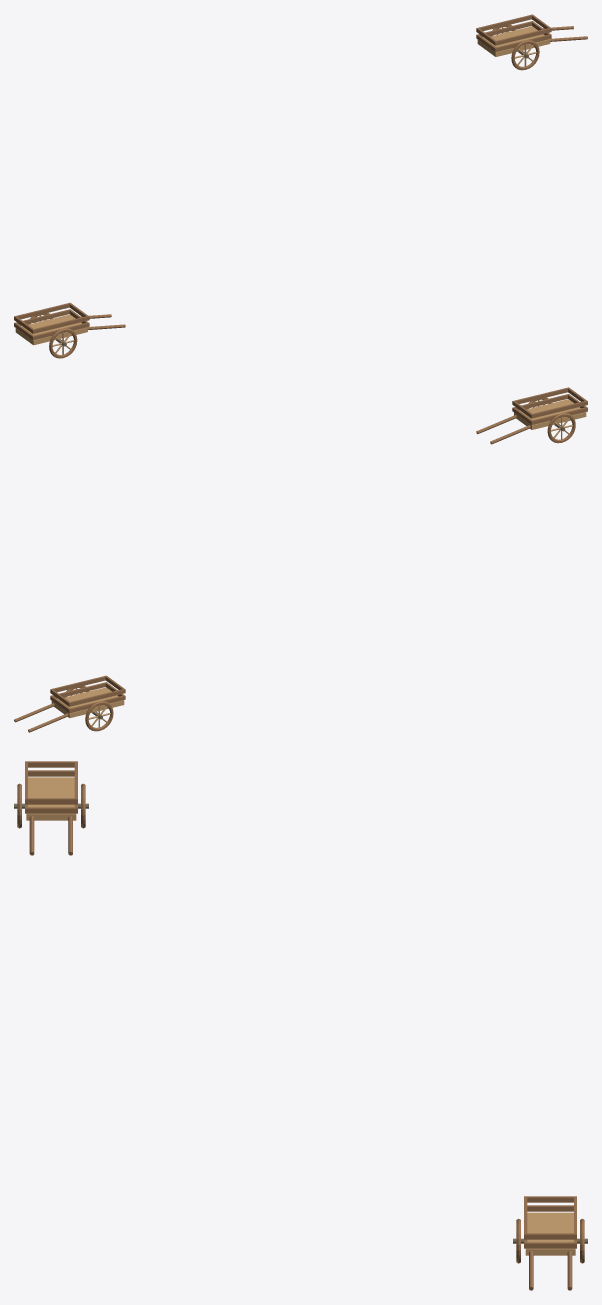
Rendered from SM_WoodenTradingCarts.fbx.
3 views of the same model, one above another, from view 1: azimuth 30°, elevation 25°; view 2: azimuth 210°, elevation 25°; view 3: azimuth 270°, elevation 25° (orthographic). The views are drawn at different scales.
Visible parts, largest first — view 1: SM_WoodenTradingCarts_Export; view 2: SM_WoodenTradingCarts_Export; view 3: SM_WoodenTradingCarts_Export.
Boxes of the visible parts, left/top/right/bottom form: SM_WoodenTradingCarts_Export: left=14, top=14, right=587, bottom=358; SM_WoodenTradingCarts_Export: left=14, top=387, right=587, bottom=732; SM_WoodenTradingCarts_Export: left=14, top=761, right=587, bottom=1290.
Size of the model in its own units: 3786 by 1840 by 163.
